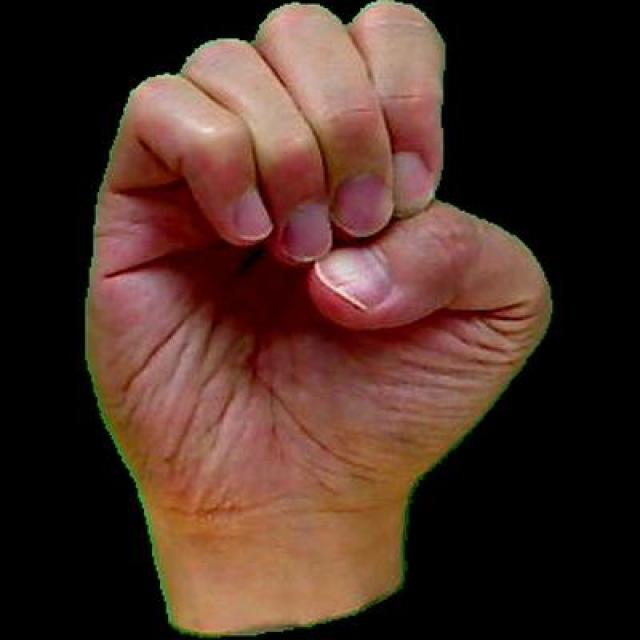e: (74, 0, 562, 637)
